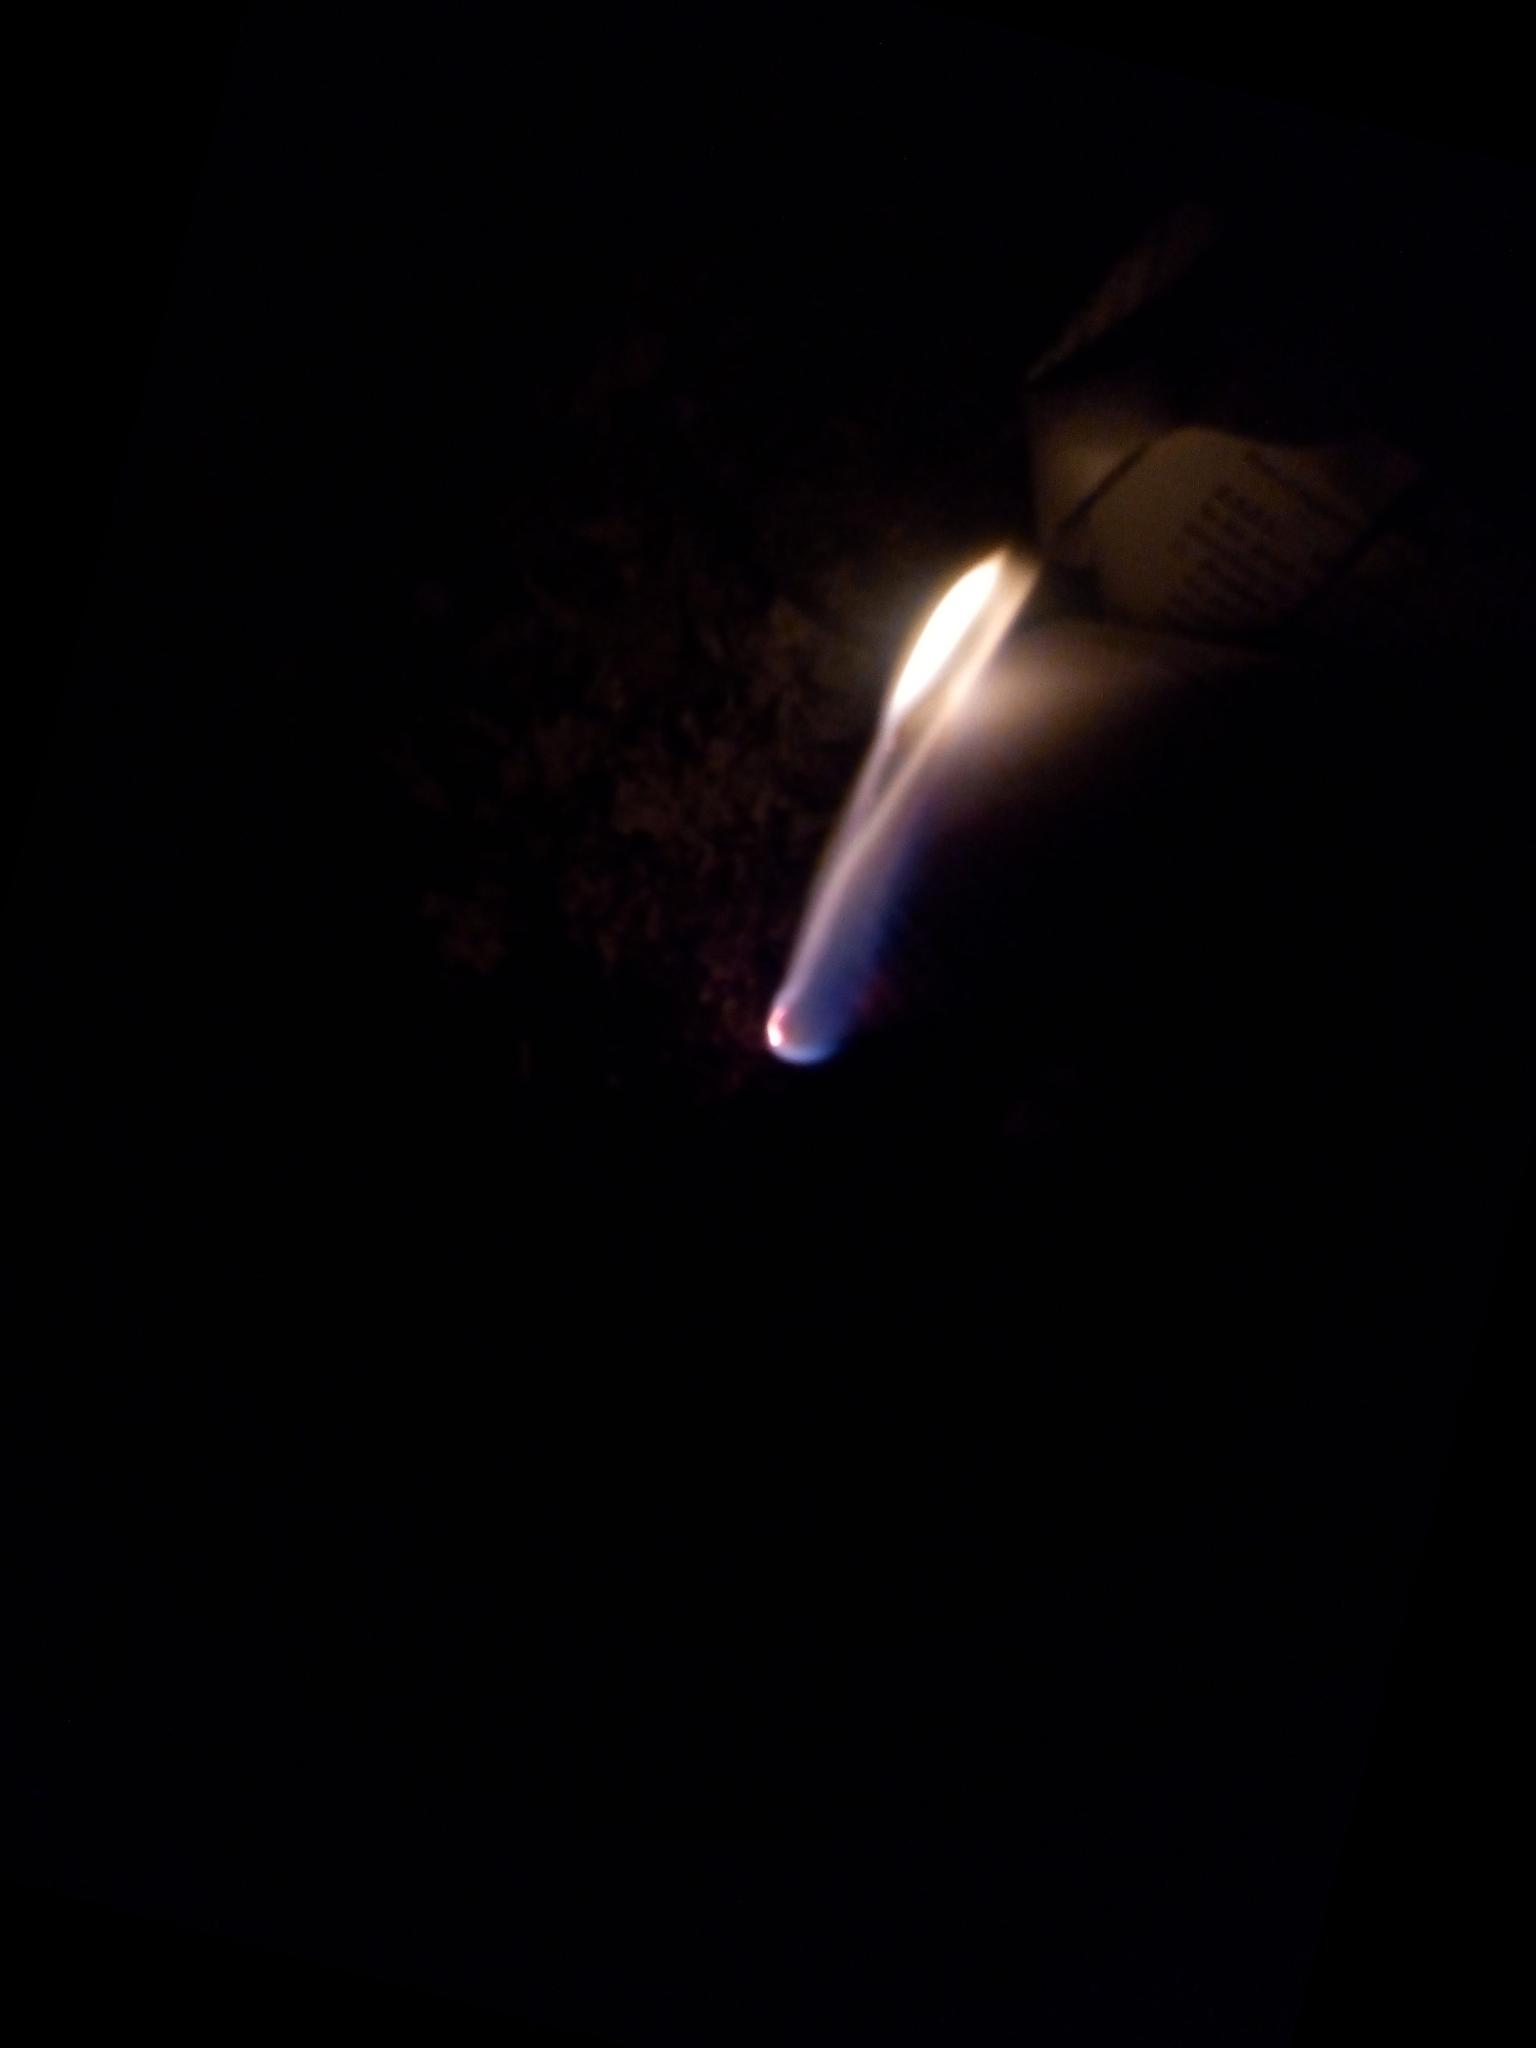Fire: (745, 506, 1050, 1098)
